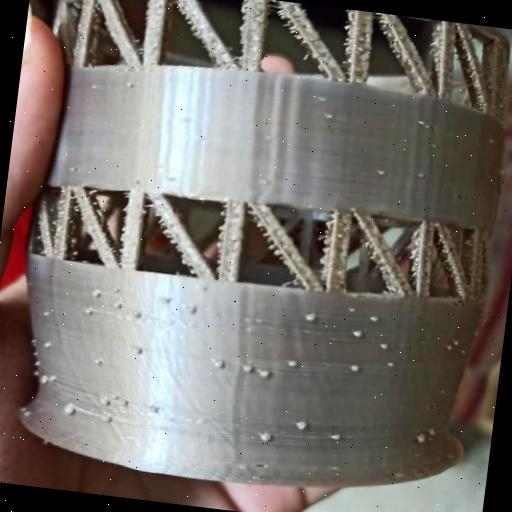blobs: (60, 398, 80, 419), (36, 371, 60, 388), (291, 418, 312, 436), (254, 429, 276, 446), (298, 310, 318, 328), (410, 430, 430, 448), (184, 301, 204, 319), (362, 312, 384, 327), (256, 366, 274, 384), (318, 107, 338, 122), (328, 430, 346, 446), (100, 407, 116, 425), (348, 328, 365, 344), (380, 356, 398, 371), (213, 356, 228, 374), (372, 164, 388, 180), (346, 360, 362, 376), (148, 404, 165, 419), (240, 362, 258, 376), (284, 358, 300, 372), (91, 288, 107, 302), (128, 308, 144, 322), (40, 340, 56, 354), (112, 302, 128, 314), (100, 398, 114, 410), (378, 340, 388, 354)
